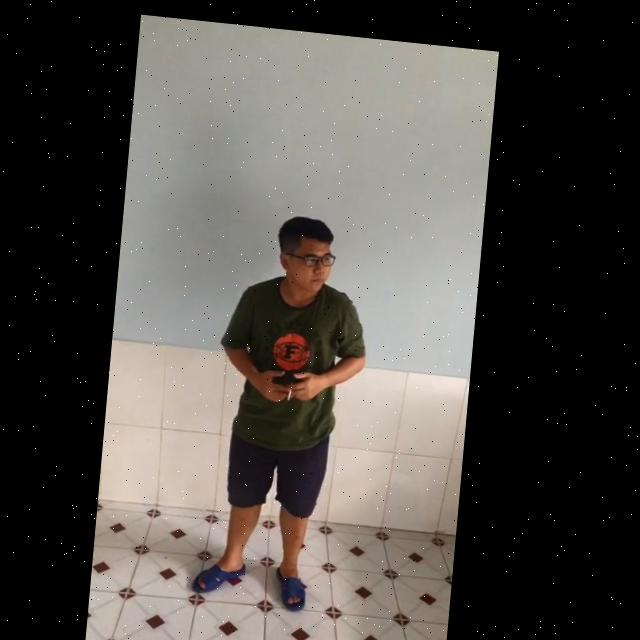cigarette: (294, 376, 300, 394)
